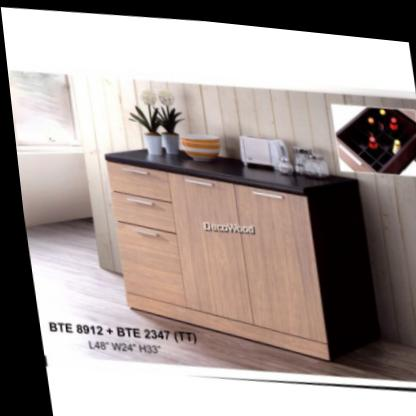Sideboard: (99, 148, 379, 366), (103, 154, 372, 355)
